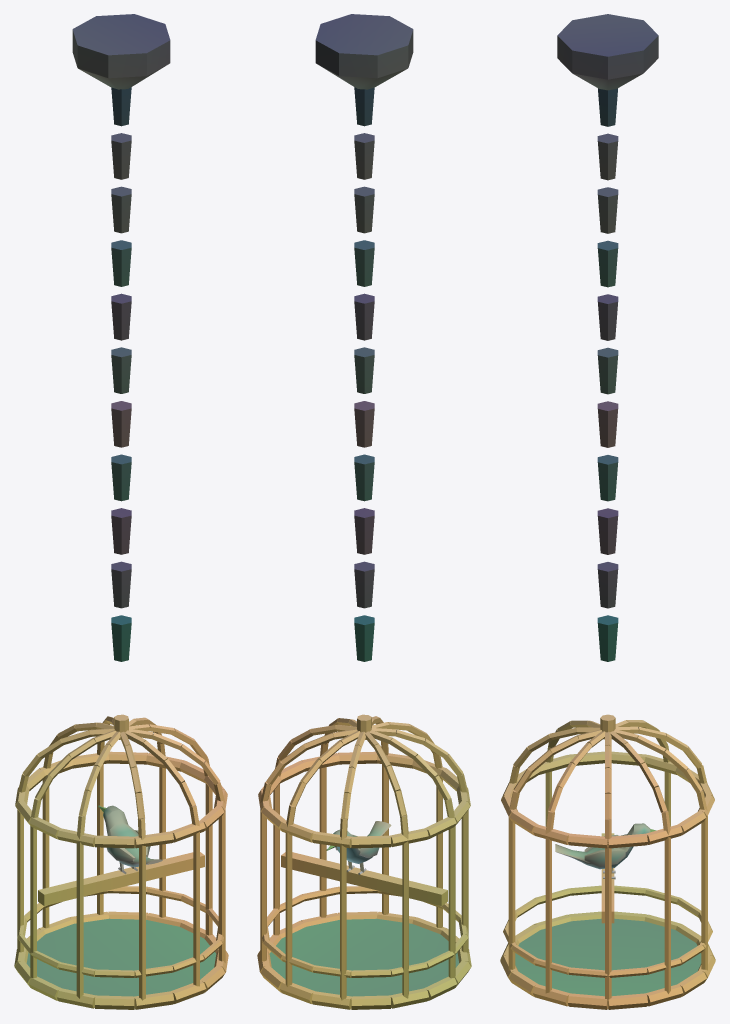
File: lark_cage.glb
3 renders of one model, left to right at view 1: azimuth 30°, elevation 25°; view 2: azimuth 150°, elevation 25°; view 3: azimuth 270°, elevation 25°, orthographic.
Parts seen in each view (by area): view 1: cage, cage_floor, mount, lark_body, link.005, link.008, link.001, link.003, link.010, link.002, link.006, link.004 (+3 smaller); view 2: cage, cage_floor, mount, lark_body, link.005, link.008, link.001, link.003, link.010, link.002, link.006, link.004 (+3 smaller); view 3: cage, cage_floor, mount, lark_body, link.001, link.003, link.005, link.007, link.009, link.002, link.004, link.006 (+3 smaller).
Part boxes in pixels (x1,y1,x2,y2): cage: (14, 714, 228, 1009); cage_floor: (26, 918, 216, 996); mount: (72, 14, 170, 89); lark_body: (103, 805, 162, 874); link.005: (111, 347, 131, 393); link.008: (111, 508, 131, 554); link.001: (111, 133, 131, 179); link.003: (111, 240, 131, 286); link.010: (111, 615, 131, 661); link.002: (111, 186, 131, 233); link.006: (111, 401, 131, 447); link.004: (111, 293, 131, 340); cage: (257, 714, 471, 1009); cage_floor: (269, 918, 459, 996); mount: (315, 14, 413, 89); lark_body: (333, 821, 391, 875); link.005: (354, 347, 374, 393); link.008: (354, 508, 374, 554); link.001: (354, 133, 374, 179); link.003: (354, 240, 374, 286); link.010: (354, 615, 374, 661); link.002: (354, 186, 374, 233); link.006: (354, 401, 374, 447); link.004: (354, 293, 374, 340); cage: (500, 714, 715, 1009); cage_floor: (515, 918, 701, 996); mount: (557, 14, 658, 90); lark_body: (555, 823, 650, 879); link.001: (597, 133, 618, 180); link.003: (597, 240, 618, 287); link.005: (597, 347, 618, 394); link.007: (597, 455, 618, 501); link.009: (597, 562, 618, 608); link.002: (597, 187, 618, 233); link.004: (597, 294, 618, 340); link.006: (597, 401, 618, 447).
Size of the model in its own units: 0.5114 by 2.5 by 0.5114.
